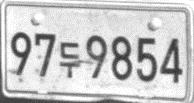4: (160, 38, 184, 86)
5: (136, 38, 158, 82)
7: (33, 32, 56, 78)
8: (110, 35, 133, 82)
9: (10, 31, 32, 76), (85, 35, 107, 78)
두: (58, 41, 82, 78)
